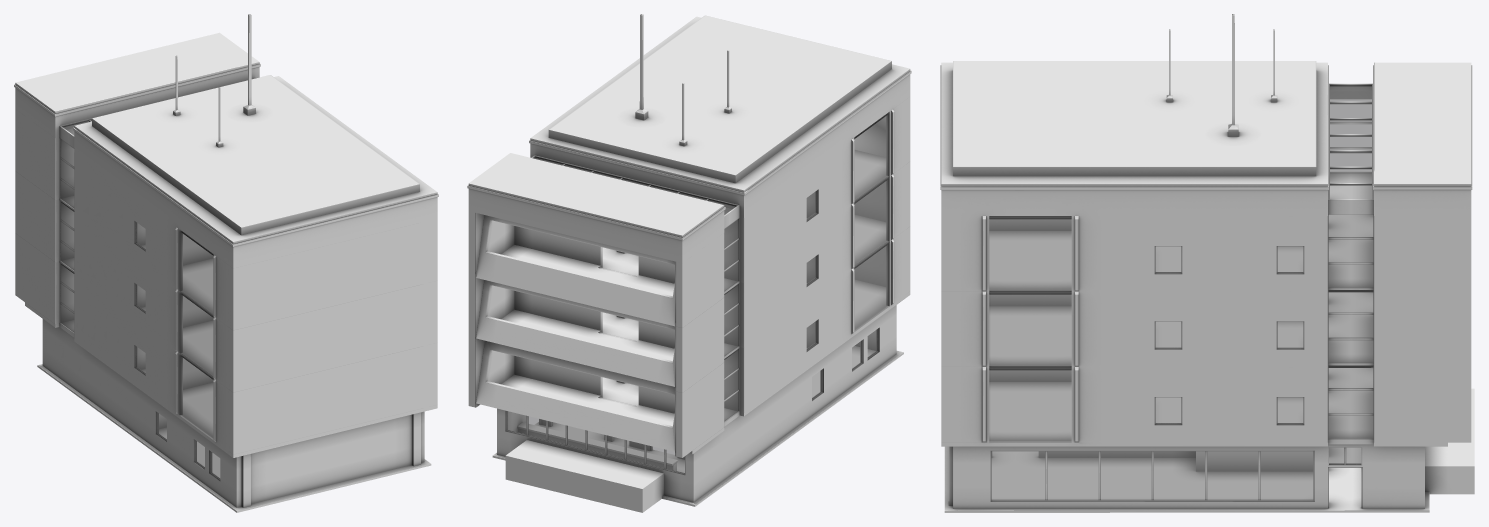
File: Residential_Buildings_002.obj
3 views of the same model, side by side, from view 1: azimuth 30°, elevation 25°; view 2: azimuth 150°, elevation 25°; view 3: azimuth 270°, elevation 25° (orthographic). The views are drawn at different scales.
Parts seen in each view (by area): view 1: Residential_Buildings_002_Cube.012; view 2: Residential_Buildings_002_Cube.012; view 3: Residential_Buildings_002_Cube.012.
Part boxes in pixels (<box>): Residential_Buildings_002_Cube.012: <box>14,14,438,512</box>; Residential_Buildings_002_Cube.012: <box>467,14,911,512</box>; Residential_Buildings_002_Cube.012: <box>940,14,1474,512</box>.
Bounding box in the file's own units: 12.59 × 21.99 × 23.1.
